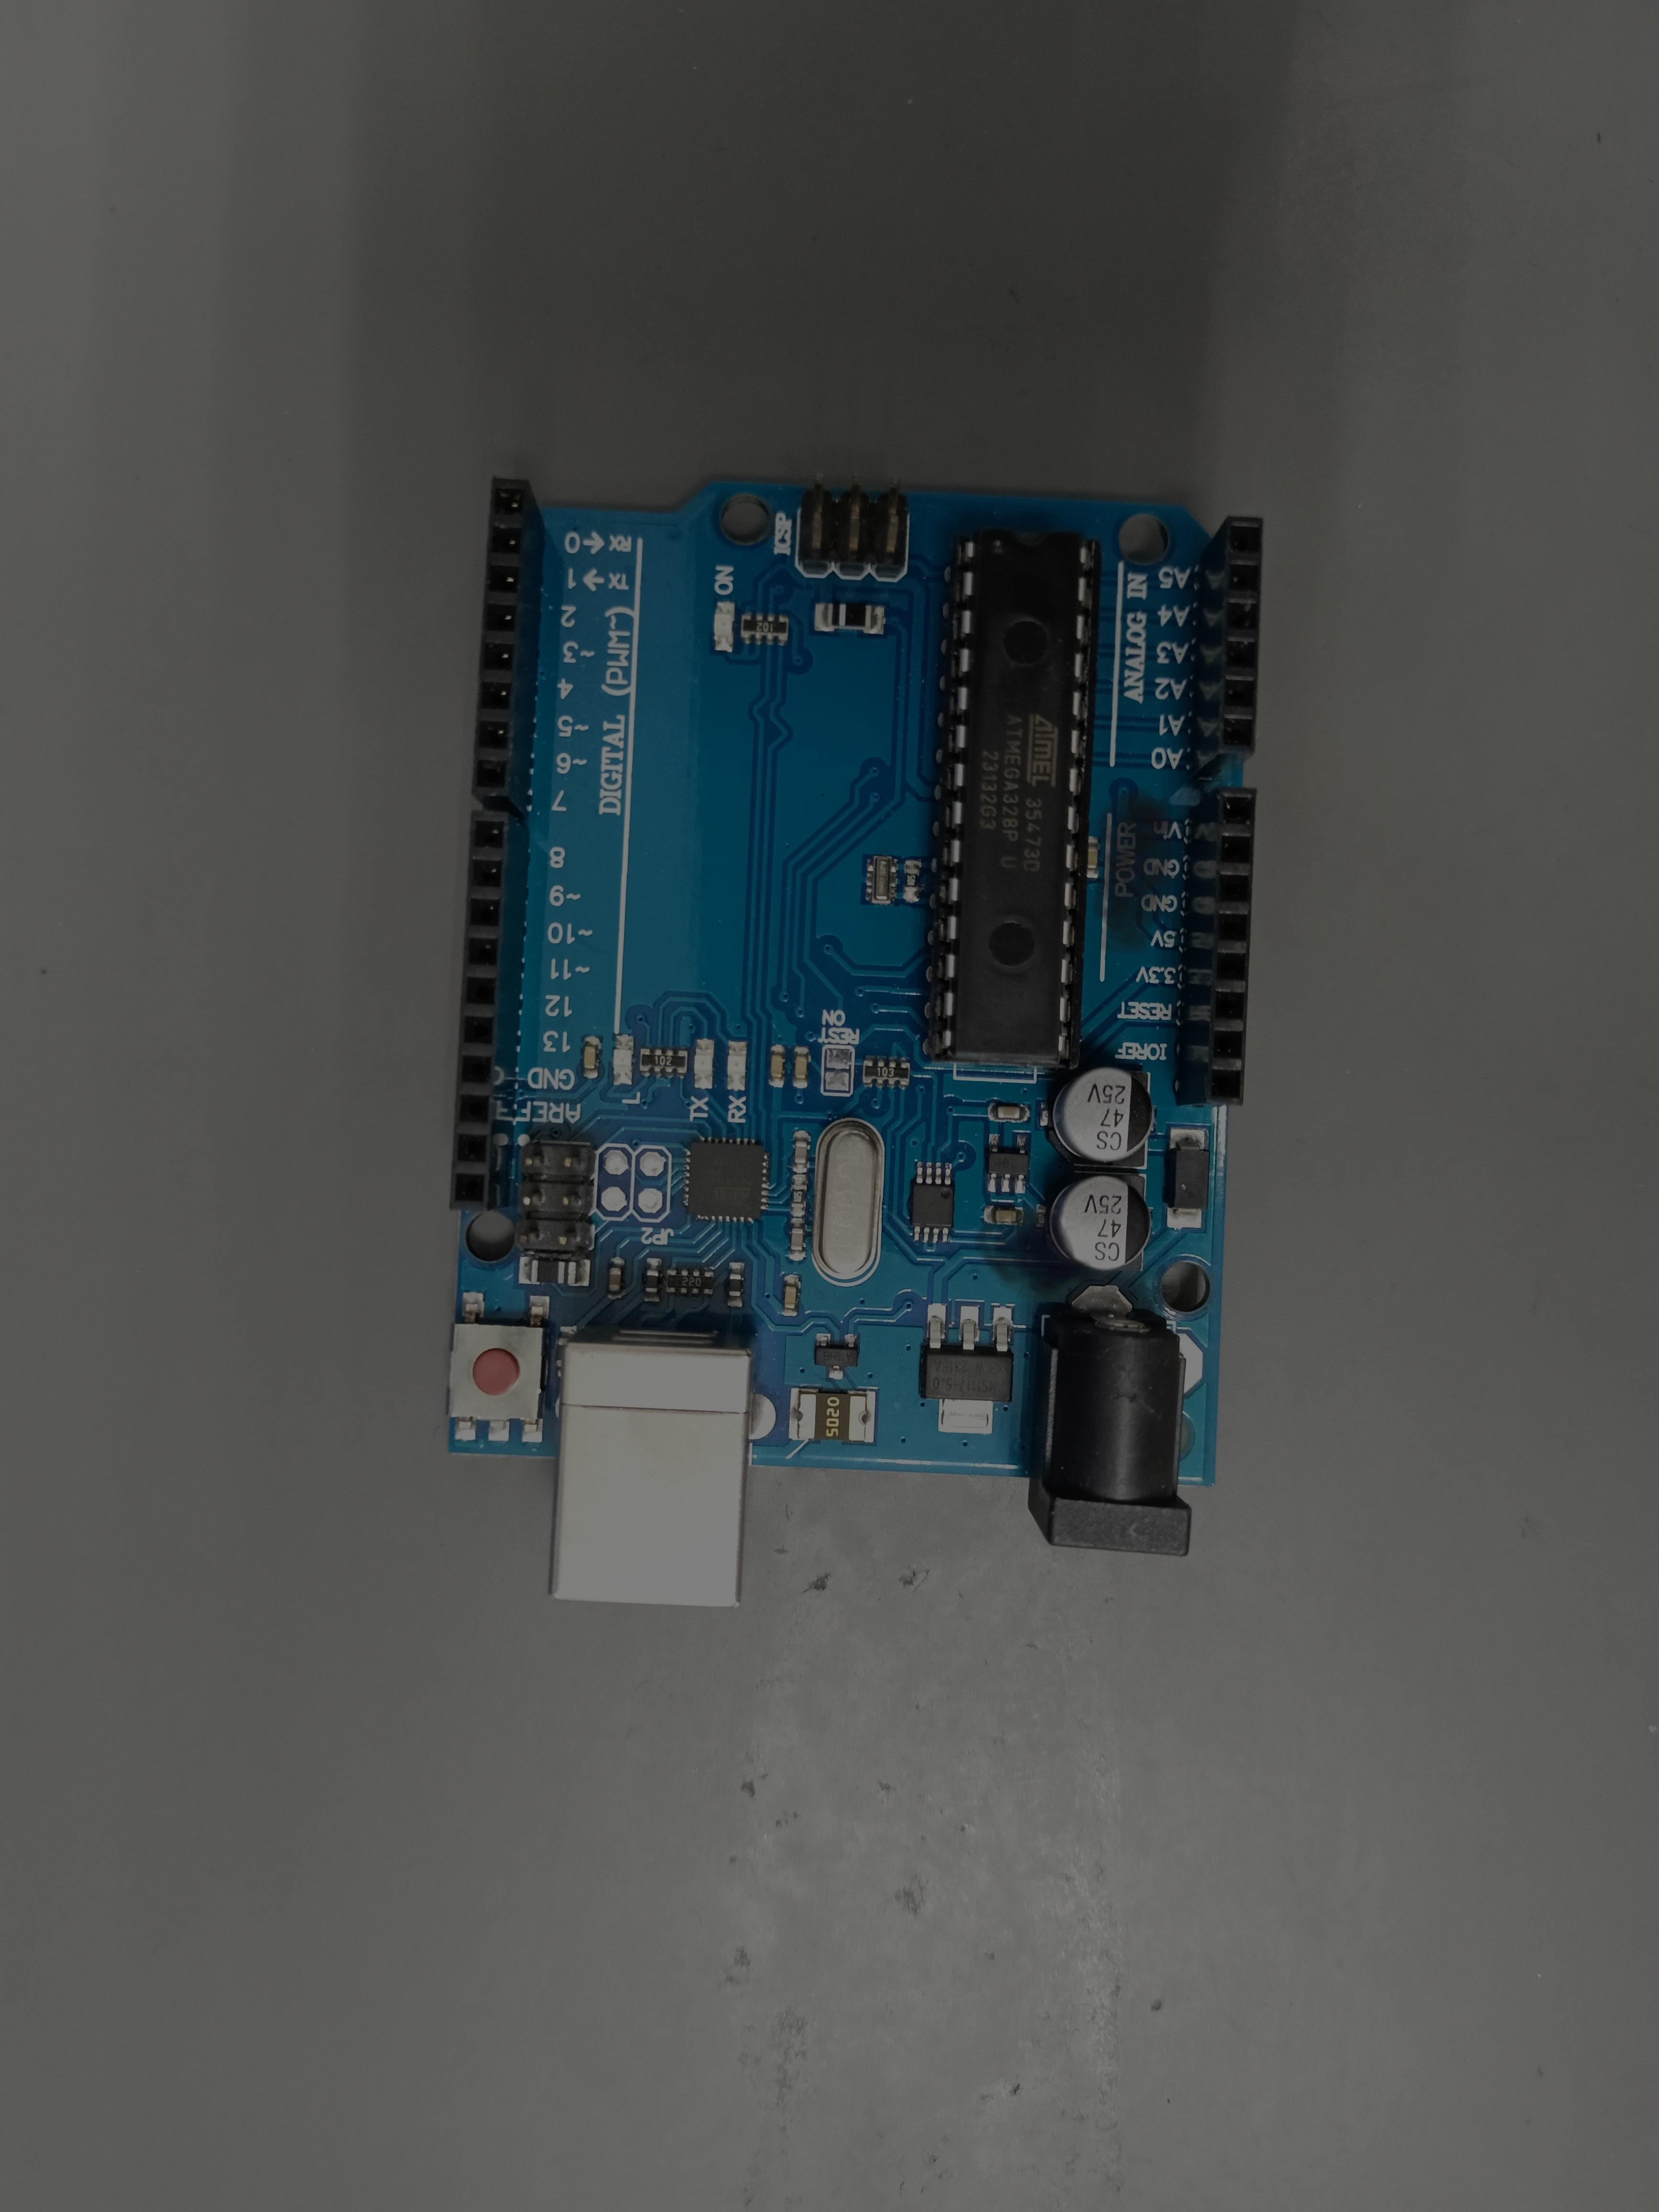ATmega328 chip: (927, 528, 1101, 1069)
Arduino board: (446, 474, 1263, 1609)
Overheat: (1093, 787, 1175, 953), (976, 1207, 1091, 1301)
USB: (549, 1324, 758, 1608)
capacitor: (1047, 1066, 1155, 1167), (1046, 1172, 1150, 1270)
pins: (450, 810, 530, 1211), (1176, 786, 1258, 1106), (471, 475, 545, 820), (1190, 516, 1263, 782)
resistor: (741, 613, 789, 643), (863, 1057, 910, 1087), (667, 1268, 714, 1298), (640, 1049, 687, 1075)
